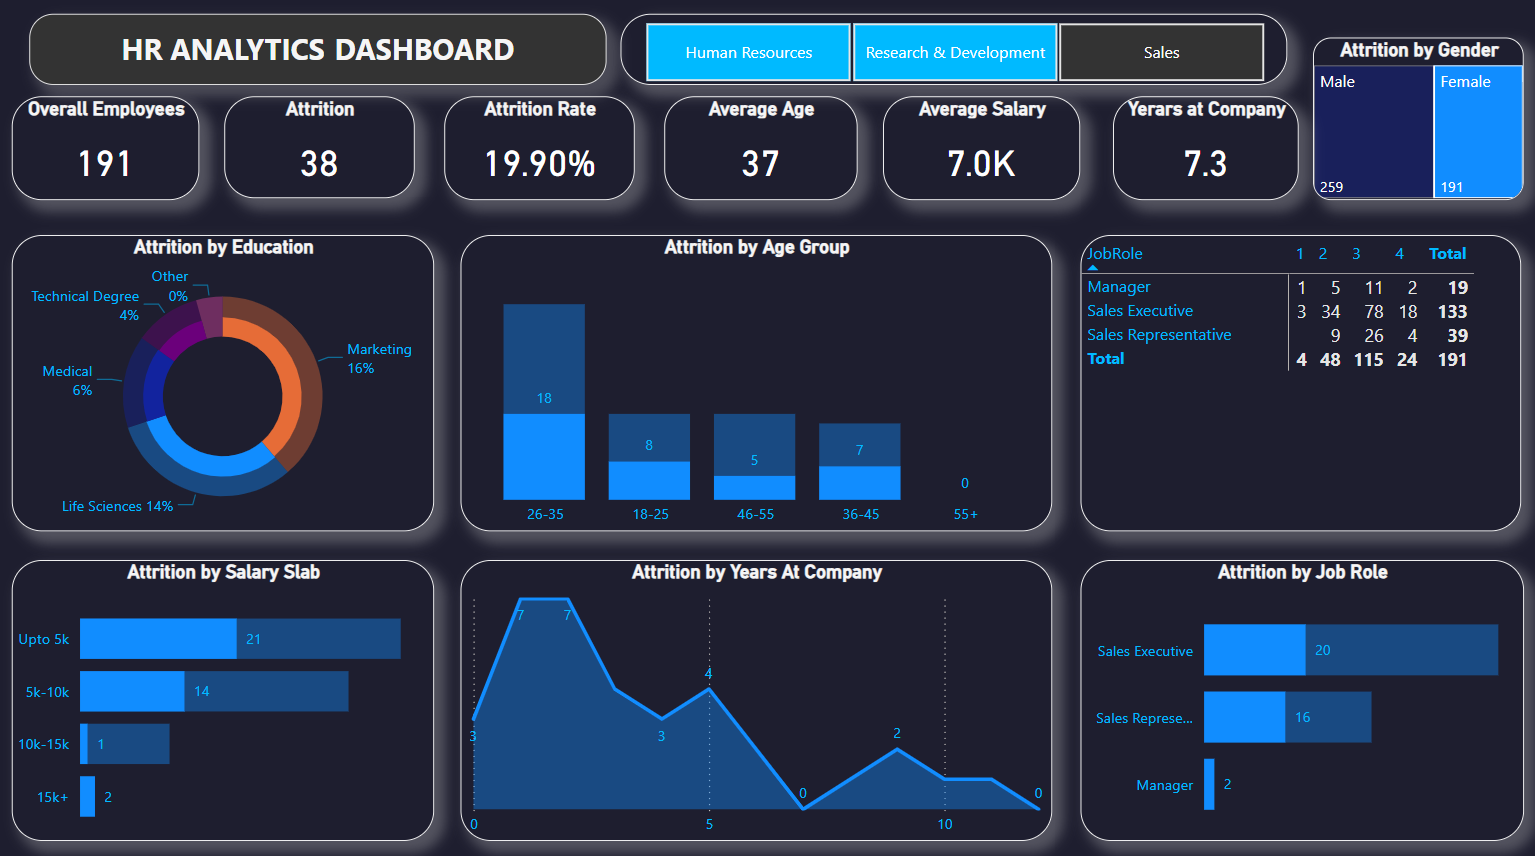

This screenshot's page, from the dashboard's own definition file:
{"tool":"powerbi","page":{"name":"Page 1","canvas":[1280,720],"ordinal":0},"visuals":[{"type":"cardVisual","title":"Attrition Rate","fields":{"Data":["HR_Analytics.Attrition Rate"]},"box":[370.9,83.7,158.1,86],"z":0},{"type":"cardVisual","title":"Attrition","fields":{"Data":["HR_Analytics.Attrition_Sum"]},"box":[188.4,83.7,158.1,84.9],"z":1000},{"type":"cardVisual","title":"Overall Employees","fields":{"Data":["Sum(HR_Analytics.Number of Employee)"]},"box":[11.6,83.7,155.8,86],"z":2000},{"type":"donutChart","title":"Attrition by Education","fields":{"Category":["HR_Analytics.EducationField"],"Y":["Sum(HR_Analytics.Attrition_Number)"]},"box":[11.6,200,351.2,246.5],"z":3000},{"type":"barChart","title":"Attrition by Salary Slab","fields":{"Category":["HR_Analytics.SalarySlab"],"Y":["Sum(HR_Analytics.Attrition_Number)"]},"box":[11.6,469.8,351.2,233.7],"z":4000},{"type":"barChart","title":"Attrition by Job Role","fields":{"Category":["HR_Analytics.JobRole"],"Y":["Sum(HR_Analytics.Attrition_Number)"]},"box":[900,469.8,368.6,233.7],"z":5000},{"type":"slicer","fields":{"Values":["HR_Analytics.Department"]},"box":[517.4,15.1,554.7,59.3],"z":6000},{"type":"pivotTable","fields":{"Columns":["HR_Analytics.WorkLifeBalance"],"Values":["CountNonNull(HR_Analytics.EnvironmentSatisfaction)"],"Rows":["HR_Analytics.JobRole"]},"box":[900,200,366.3,246.5],"z":7000},{"type":"columnChart","title":"Attrition by Age Group","fields":{"Y":["Sum(HR_Analytics.Attrition_Number)"],"Category":["HR_Analytics.AgeGroup"]},"box":[384.9,200,491.9,246.5],"z":8000},{"type":"areaChart","title":"Attrition by Years At Company","fields":{"Y":["Sum(HR_Analytics.Attrition_Number)"],"Category":["HR_Analytics.YearsAtCompany"]},"box":[384.9,469.8,491.9,233.7],"z":9000},{"type":"treemap","title":"Attrition by Gender","fields":{"Details":["HR_Analytics.Gender"],"Values":["CountNonNull(HR_Analytics.EmpID)"]},"box":[1093,34.9,175.6,134.9],"z":10000},{"type":"cardVisual","title":"Average Age","fields":{"Data":["Avg(HR_Analytics.Age)"]},"box":[553.5,83.7,160.5,86],"z":11000},{"type":"cardVisual","title":"Average Salary","fields":{"Data":["HR_Analytics.AvgSalary"]},"box":[736,83.7,164,86],"z":12000},{"type":"cardVisual","title":"Yerars at Company","fields":{"Data":["Avg(HR_Analytics.YearsAtCompany)"]},"box":[926.7,83.7,154.7,86],"z":13000},{"type":"textbox","box":[25.6,15.1,480.2,59.3],"z":14000}]}

Visuals, with their boxes in screenshot pixels (x1, y1, x2, y2), scaled from the page's 1280x720 canvas onto the 1535x856 screenshot:
"Attrition Rate" cardVisual: 445/100/634/202
"Attrition" cardVisual: 226/100/416/200
"Overall Employees" cardVisual: 14/100/201/202
"Attrition by Education" donutChart: 14/238/435/531
"Attrition by Salary Slab" barChart: 14/559/435/836
"Attrition by Job Role" barChart: 1079/559/1521/836
slicer - HR_Analytics.Department: 620/18/1286/88
pivotTable - HR_Analytics.WorkLifeBalance x CountNonNull(HR_Analytics.EnvironmentSatisfaction): 1079/238/1519/531
"Attrition by Age Group" columnChart: 462/238/1051/531
"Attrition by Years At Company" areaChart: 462/559/1051/836
"Attrition by Gender" treemap: 1311/41/1521/202
"Average Age" cardVisual: 664/100/856/202
"Average Salary" cardVisual: 883/100/1079/202
"Yerars at Company" cardVisual: 1111/100/1297/202
textbox: 31/18/607/88
